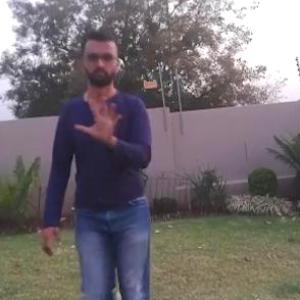follow_hand: (72, 91, 128, 143)
